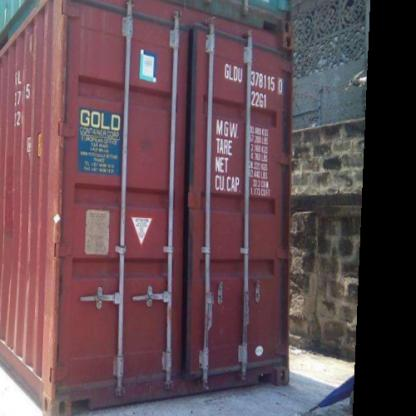Damage: (41, 1, 79, 290), (60, 376, 195, 399)
